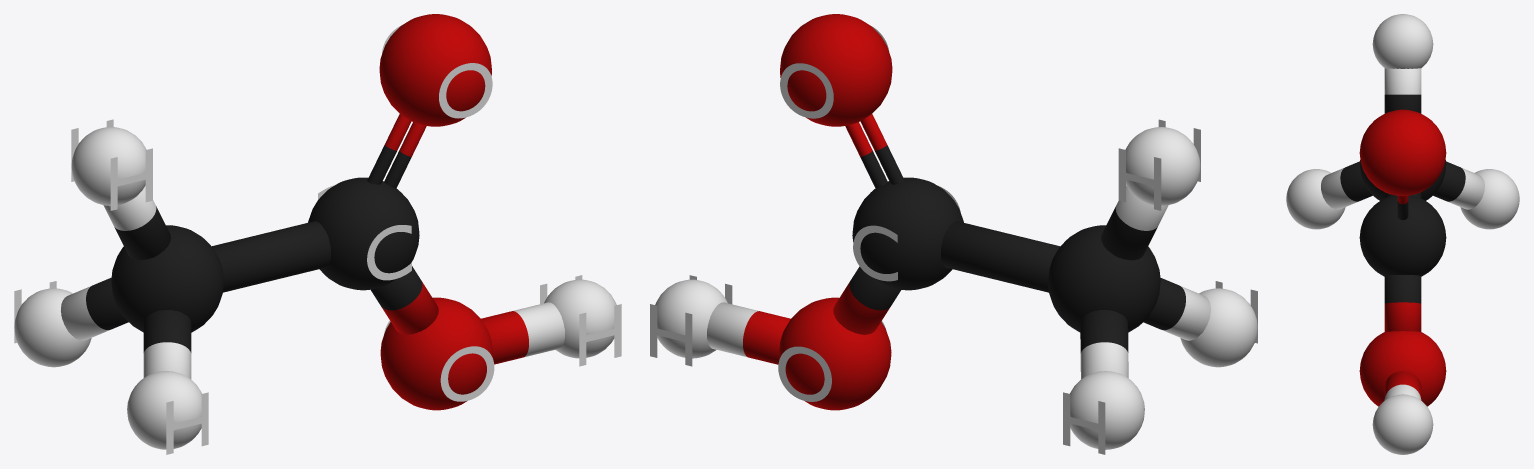
The model's file is AceticAcid.fbx.
The picture shows the model from 3 angles, left to right: view 1: azimuth 30°, elevation 25°; view 2: azimuth 150°, elevation 25°; view 3: azimuth 270°, elevation 25°; orthographic projection. The views are drawn at different scales.
Parts seen in each view (by area): view 1: Oxygen1, Carbon2, Oxygen2, Carbon1, Cylinder, Hydrogen2, Hydrogen1, Hydrogen3, Cylinder.007, Hydrogen4, Cylinder.002, Cylinder.001 (+9 smaller); view 2: Oxygen1, Carbon2, Oxygen2, Carbon1, Cylinder, Hydrogen3, Hydrogen1, Hydrogen2, Cylinder.007, Hydrogen4, Cylinder.003, Cylinder.001 (+9 smaller); view 3: Oxygen1, Carbon2, Oxygen2, Hydrogen4, Hydrogen1, Hydrogen3, Hydrogen2, Cylinder.006, Cylinder.001, Cylinder.002, Cylinder.003, Cylinder.007 (+2 smaller).
Boxes of the visible parts, x1,y1,x2,y2 form: Oxygen1: (379,14,491,126); Carbon2: (308,177,419,290); Oxygen2: (380,297,492,410); Carbon1: (111,225,223,332); Cylinder: (212,221,330,292); Hydrogen2: (127,371,201,449); Hydrogen1: (71,127,146,205); Hydrogen3: (14,288,91,367); Cylinder.007: (481,302,564,364); Hydrogen4: (544,279,616,358); Cylinder.002: (143,310,191,379); Cylinder.001: (103,185,170,260); Oxygen1: (780,14,892,126); Carbon2: (852,177,963,290); Oxygen2: (779,297,891,410); Carbon1: (1048,225,1160,332); Cylinder: (941,221,1059,292); Hydrogen3: (1070,371,1144,449); Hydrogen1: (1125,127,1200,205); Hydrogen2: (1180,288,1257,367); Cylinder.007: (707,302,790,364); Hydrogen4: (655,279,727,358); Cylinder.003: (1080,310,1128,378); Cylinder.001: (1101,185,1168,260); Oxygen1: (1359,109,1446,196); Carbon2: (1359,195,1446,276); Oxygen2: (1359,331,1446,406); Hydrogen4: (1372,394,1433,454); Hydrogen1: (1372,14,1433,68); Hydrogen3: (1460,169,1519,229); Hydrogen2: (1286,169,1345,229); Cylinder.006: (1384,275,1421,331); Cylinder.001: (1384,68,1421,113); Cylinder.002: (1321,161,1372,209); Cylinder.003: (1433,161,1484,209); Cylinder.007: (1384,371,1421,400).
Size of the model in its own units: 1101 by 755 by 539.
